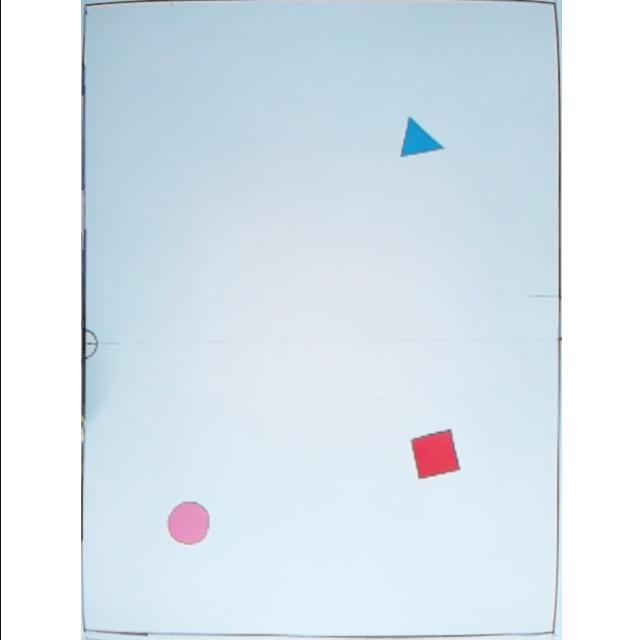blueTriangle: (396, 115, 444, 158)
pinkCircle: (165, 500, 209, 544)
redSquare: (407, 428, 461, 480)
